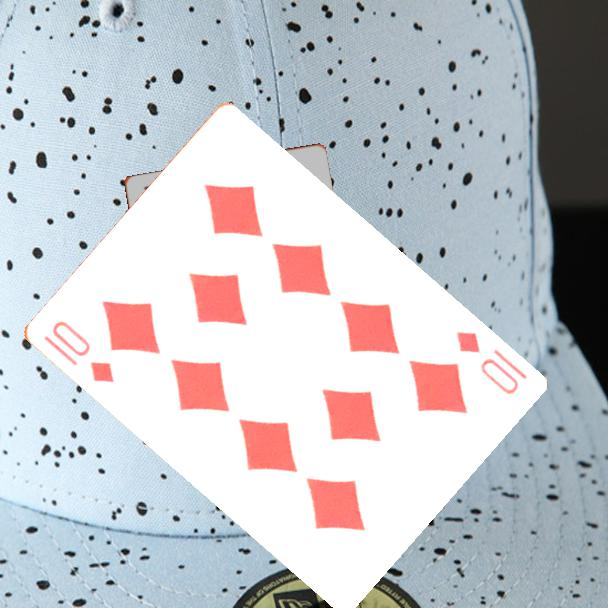d10: (451, 327, 530, 398), (47, 317, 116, 386)
